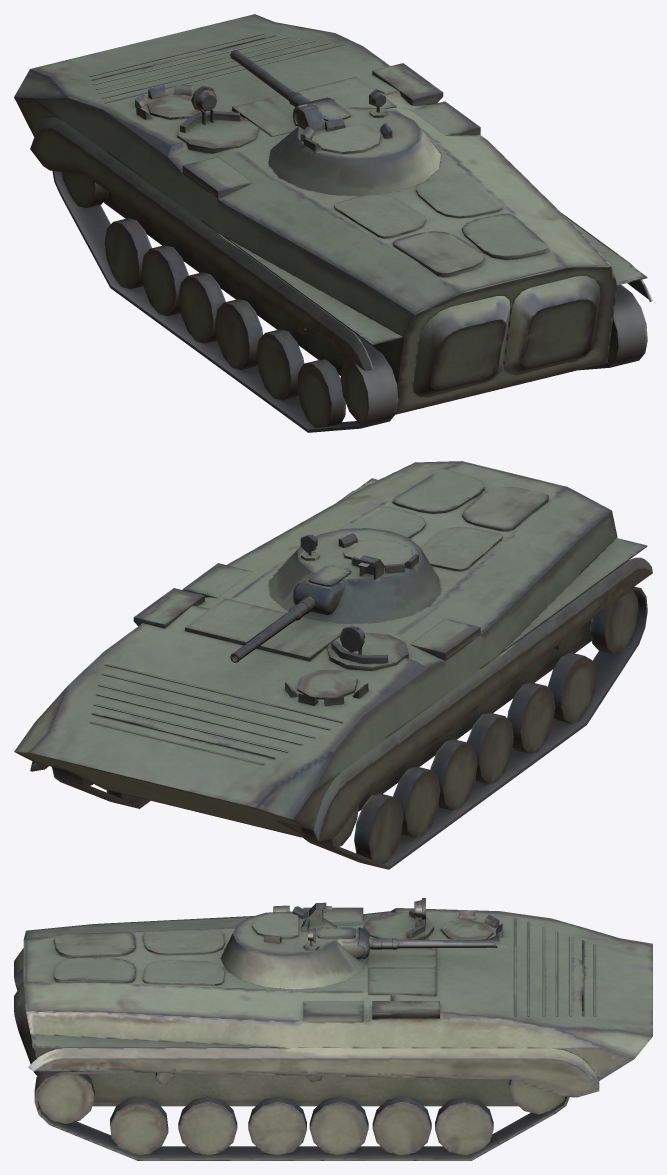
File: BMP-1.fbx
3 renders of one model, top to bottom at view 1: azimuth 30°, elevation 25°; view 2: azimuth 150°, elevation 25°; view 3: azimuth 270°, elevation 25°, orthographic. The views are drawn at different scales.
Parts seen in each view (by area): view 1: BMP-1 Hull, BMP-1 Turret; view 2: BMP-1 Hull, BMP-1 Turret; view 3: BMP-1 Hull, BMP-1 Turret.
Part boxes in pixels (x1,y1,x2,y2): BMP-1 Hull: [14, 14, 652, 432]; BMP-1 Turret: [230, 49, 440, 195]; BMP-1 Hull: [14, 461, 652, 869]; BMP-1 Turret: [230, 528, 440, 662]; BMP-1 Hull: [14, 898, 652, 1160]; BMP-1 Turret: [220, 902, 497, 989].
Size of the model in its own units: 2.96 by 2.2 by 6.73.
